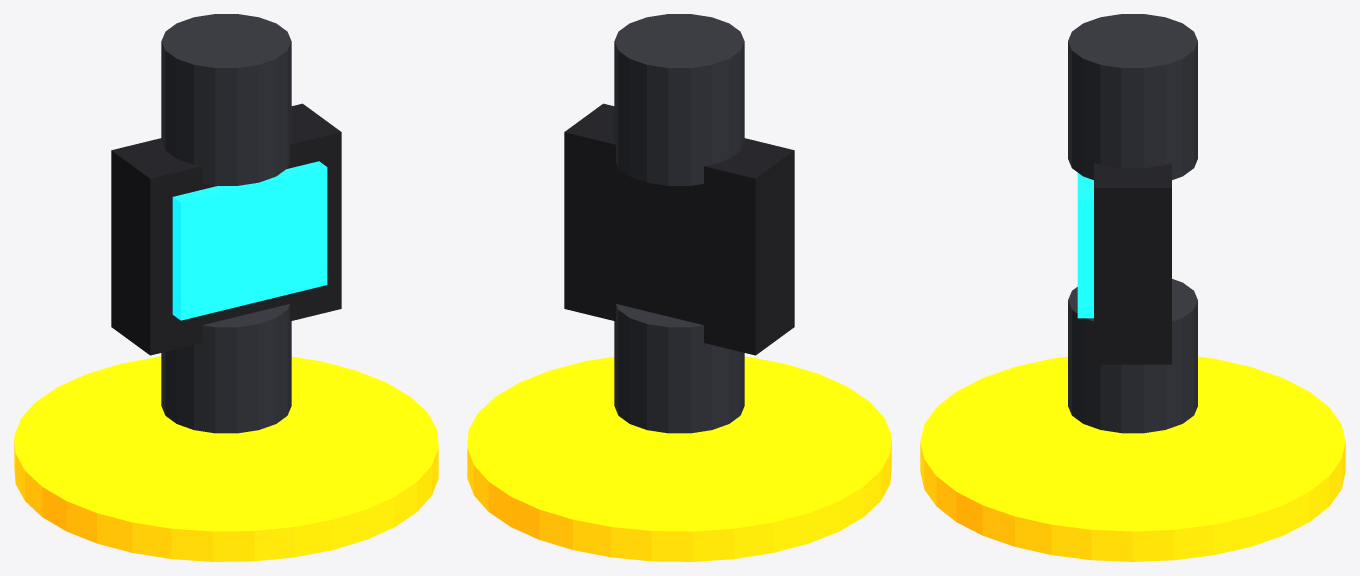
File: fitness_smart_watch.glb
3 views of the same model, side by side, from view 1: azimuth 30°, elevation 25°; view 2: azimuth 150°, elevation 25°; view 3: azimuth 270°, elevation 25° (orthographic).
Parts seen in each view (by area): view 1: 02_05_Popular_Fitness_Smart_Watch_ROOT_base, 02_05_Popular_Fitness_Smart_Watch_part_01, 02_05_Popular_Fitness_Smart_Watch_part_04, 02_05_Popular_Fitness_Smart_Watch_part_02, 02_05_Popular_Fitness_Smart_Watch_part_03; view 2: 02_05_Popular_Fitness_Smart_Watch_ROOT_base, 02_05_Popular_Fitness_Smart_Watch_part_01, 02_05_Popular_Fitness_Smart_Watch_part_04, 02_05_Popular_Fitness_Smart_Watch_part_03; view 3: 02_05_Popular_Fitness_Smart_Watch_ROOT_base, 02_05_Popular_Fitness_Smart_Watch_part_04, 02_05_Popular_Fitness_Smart_Watch_part_01, 02_05_Popular_Fitness_Smart_Watch_part_03, 02_05_Popular_Fitness_Smart_Watch_part_02.
Boxes of the visible parts, bbox=[...] form: 02_05_Popular_Fitness_Smart_Watch_ROOT_base: bbox=[14, 356, 438, 561]; 02_05_Popular_Fitness_Smart_Watch_part_01: bbox=[111, 103, 341, 355]; 02_05_Popular_Fitness_Smart_Watch_part_04: bbox=[161, 14, 291, 185]; 02_05_Popular_Fitness_Smart_Watch_part_02: bbox=[172, 161, 327, 320]; 02_05_Popular_Fitness_Smart_Watch_part_03: bbox=[161, 304, 291, 433]; 02_05_Popular_Fitness_Smart_Watch_ROOT_base: bbox=[467, 356, 891, 561]; 02_05_Popular_Fitness_Smart_Watch_part_01: bbox=[564, 103, 794, 355]; 02_05_Popular_Fitness_Smart_Watch_part_04: bbox=[614, 14, 744, 185]; 02_05_Popular_Fitness_Smart_Watch_part_03: bbox=[614, 304, 744, 433]; 02_05_Popular_Fitness_Smart_Watch_ROOT_base: bbox=[920, 356, 1345, 561]; 02_05_Popular_Fitness_Smart_Watch_part_04: bbox=[1068, 14, 1197, 179]; 02_05_Popular_Fitness_Smart_Watch_part_01: bbox=[1094, 162, 1171, 364]; 02_05_Popular_Fitness_Smart_Watch_part_03: bbox=[1068, 279, 1197, 433]; 02_05_Popular_Fitness_Smart_Watch_part_02: bbox=[1077, 173, 1093, 318].
Size of the model in its own units: 0.76 by 0.85 by 0.76.
